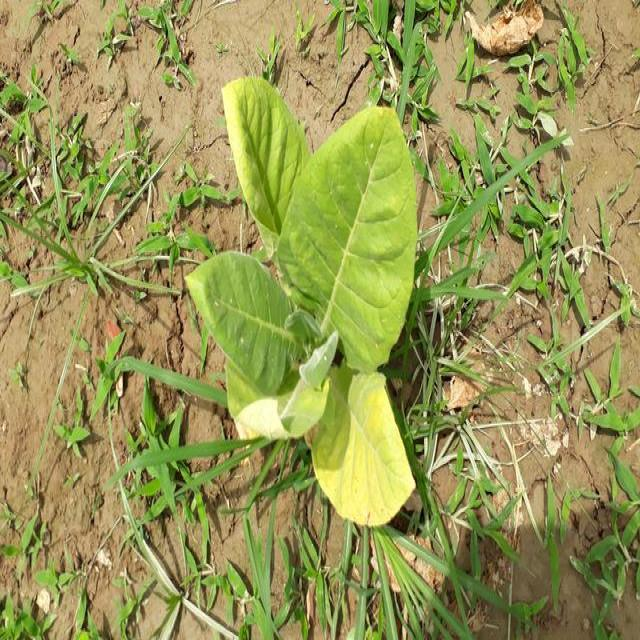crop: (194, 70, 419, 523)
